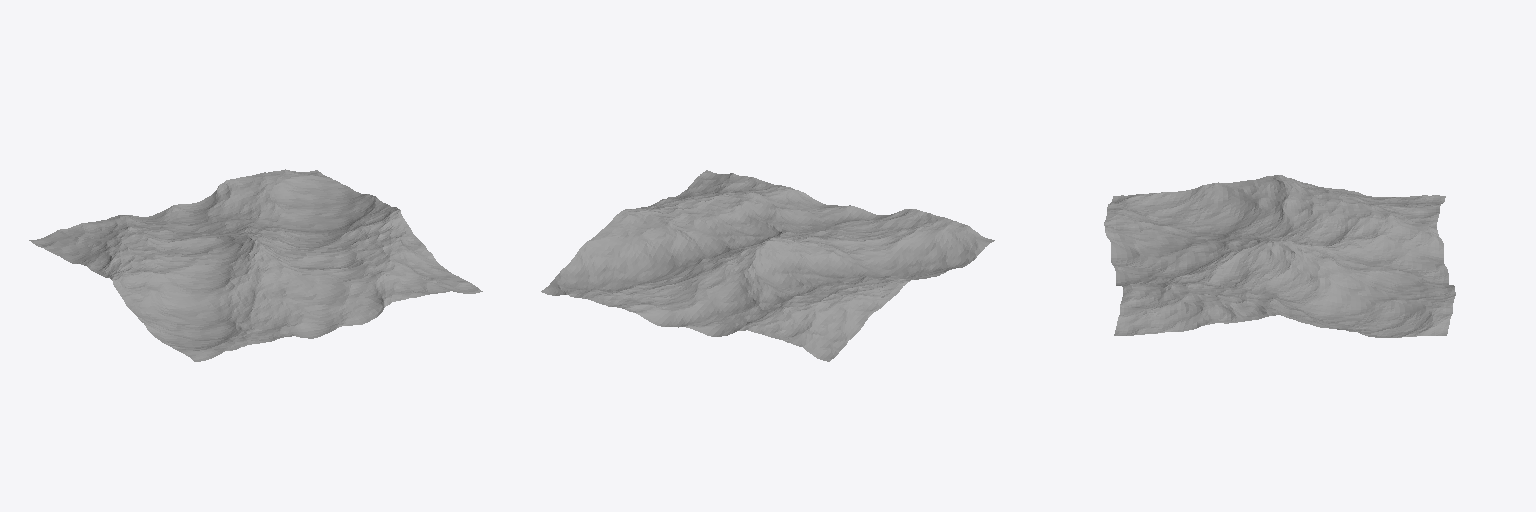
The model's file is ocean.obj.
The picture shows the model from 3 angles: view 1: azimuth 30°, elevation 25°; view 2: azimuth 150°, elevation 25°; view 3: azimuth 270°, elevation 25°; orthographic projection.
Visible parts, largest first — view 1: Plane; view 2: Plane; view 3: Plane.
Part boxes in pixels (bbox=[...]): Plane: bbox=[29, 169, 482, 361]; Plane: bbox=[541, 170, 994, 361]; Plane: bbox=[1104, 175, 1455, 337].
Bounding box in the file's own units: 52.57 × 5.13 × 52.93.